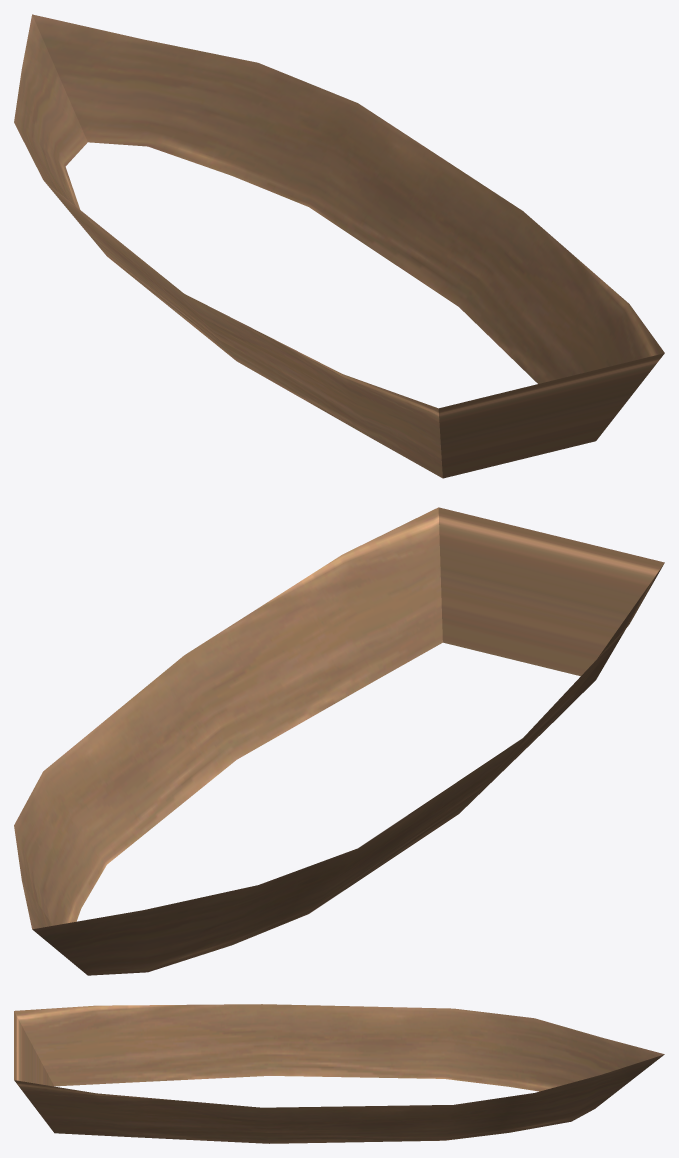
File: A_HA_GEN_Ship_Hull_01.fbx
3 renders of one model, top to bottom at view 1: azimuth 30°, elevation 25°; view 2: azimuth 150°, elevation 25°; view 3: azimuth 270°, elevation 25°, orthographic. The views are drawn at different scales.
Parts seen in each view (by area): view 1: A_HA_Gen_Ship_Hull_01; view 2: A_HA_Gen_Ship_Hull_01; view 3: A_HA_Gen_Ship_Hull_01.
Part boxes in pixels (x1,y1,x2,y2): A_HA_Gen_Ship_Hull_01: [14, 14, 664, 478]; A_HA_Gen_Ship_Hull_01: [14, 507, 664, 975]; A_HA_Gen_Ship_Hull_01: [14, 1004, 664, 1143].
Size of the model in its own units: 796 by 231 by 2115.
Materials: 1 (1 with a texture image).
